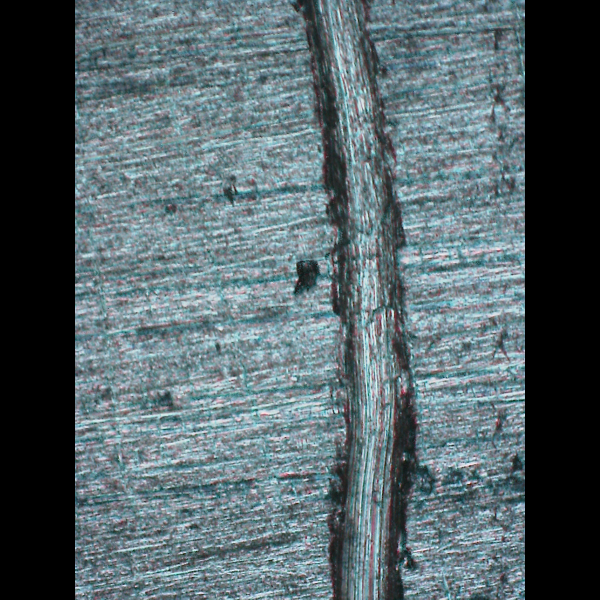d: (287, 0, 420, 599)
